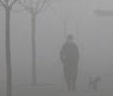person: (58, 33, 83, 94)
